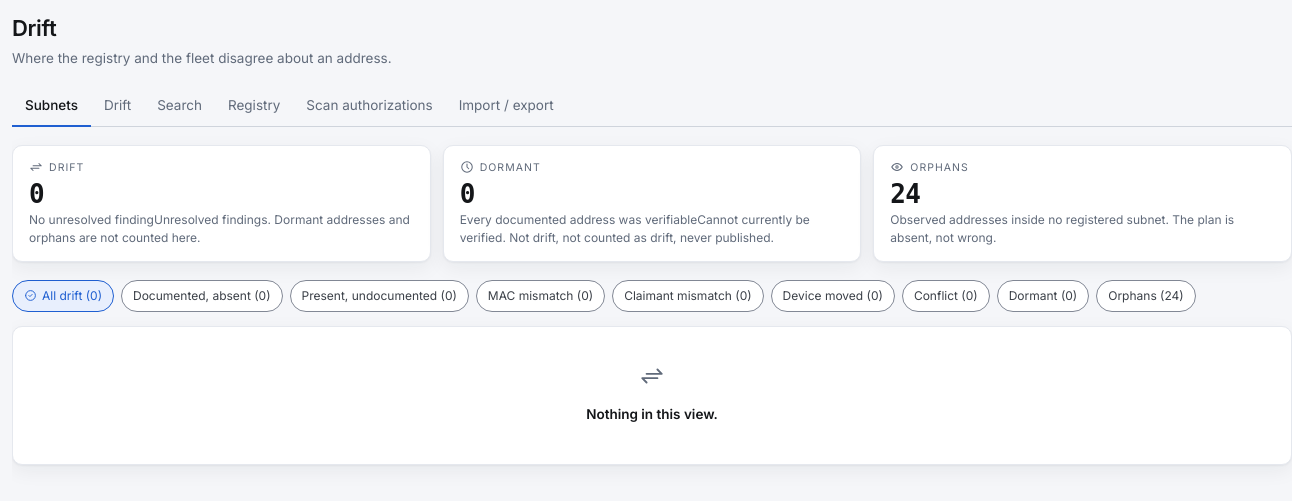
Scenario: the drift page › puts orphans behind their own tab, with a register-the-subnet action
The image size is (1292, 501).
Click the button "Orphans (24)": x=1146, y=296 1096,280 -> 1196,312
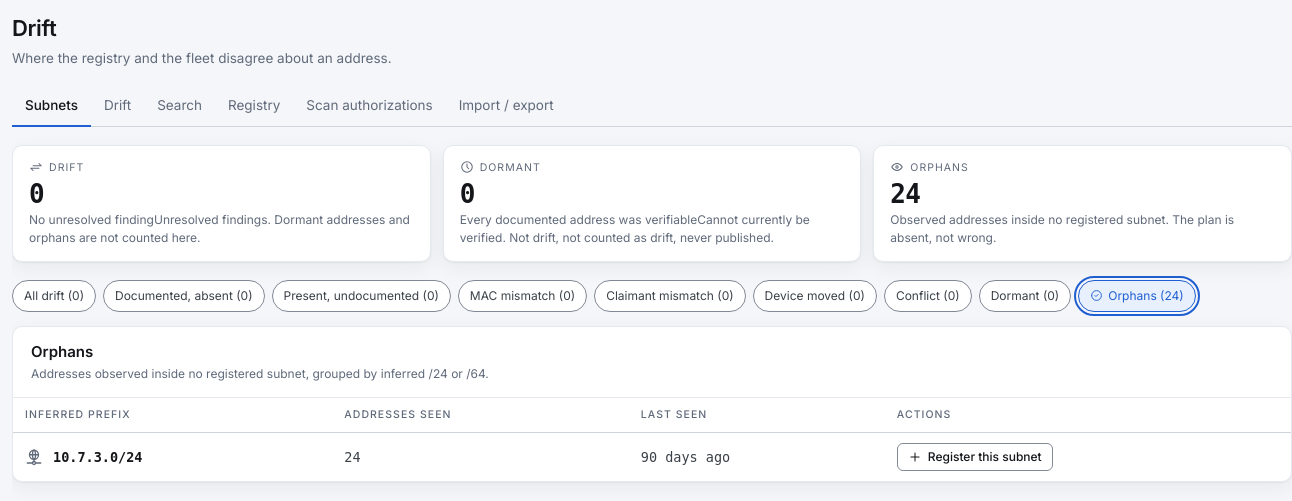
Expected: the text "10.7.3.0/24" is shown, 53,447 -> 142,467
Expected: the text "grouped by inferred /24 or /64" is shown, 31,366 -> 489,381
